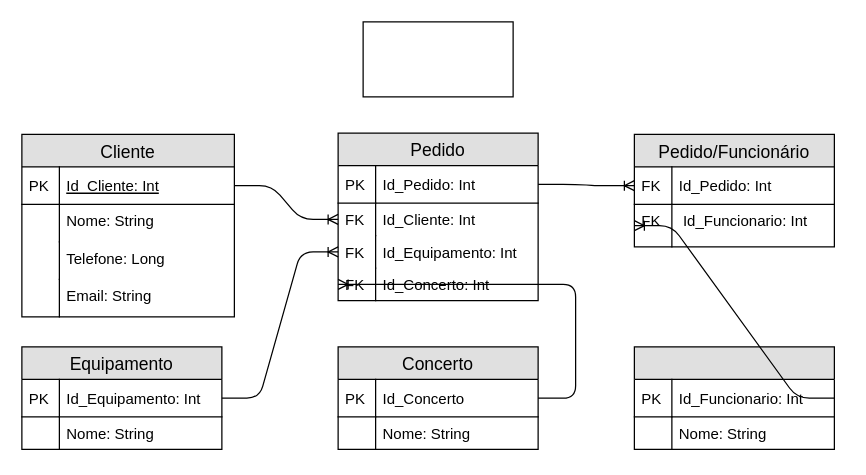
The diagram is 866 pixels wide and 475 high, and some of its shapes have lost their labels. The box of each missing label's shape, as (x1, y1, x2, y2) in pixels:
Funcionários: (633, 346, 834, 449)
LÓGICO: (362, 21, 513, 97)
